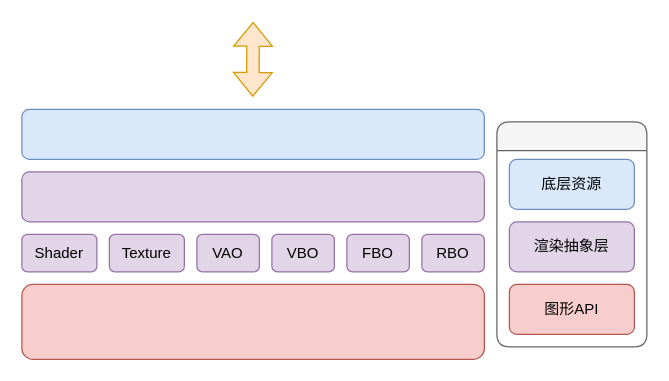
This 669x381 diagram has some shape labels left out. Each missing label, with the box of its shape:
IMFX-GL: (21, 171, 484, 222)
LLRES: (21, 108, 484, 159)
OpenGL API: (21, 283, 484, 359)
说明: (496, 121, 647, 347)
